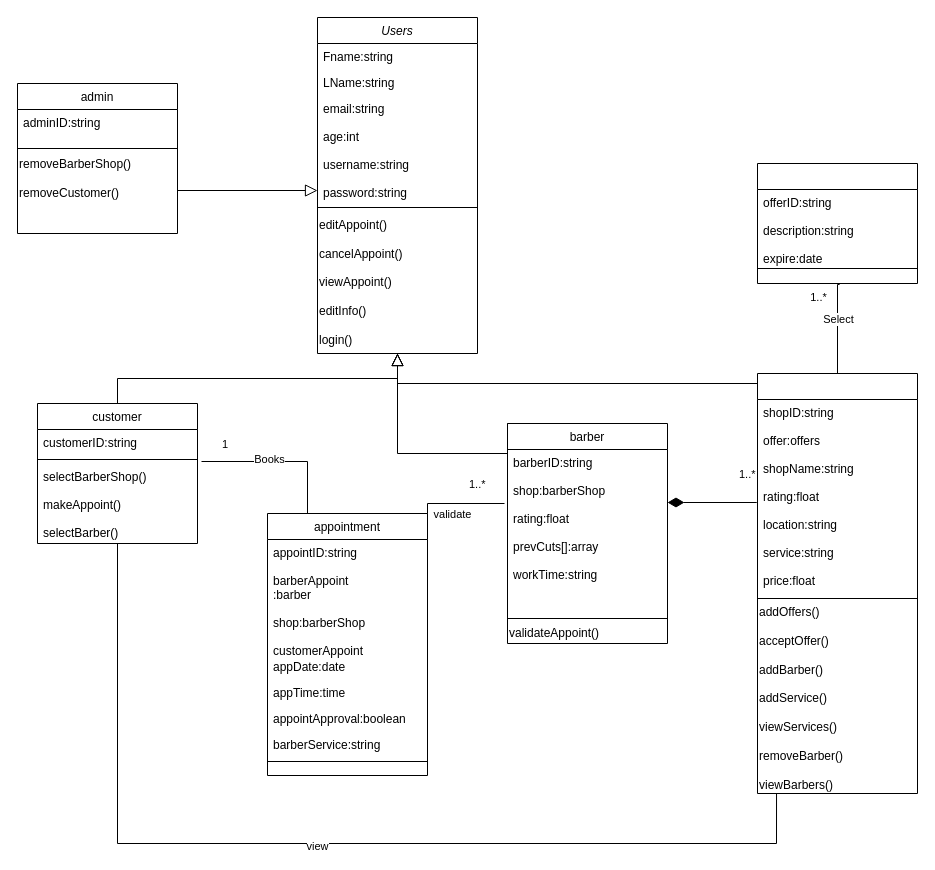
Image size: 935x870. Some labels were removed from this diagram. The shapes that lost their labels are listed below. From the top down, each one's box as (x1, y1, x2, y2) in pixels, then its label:
(756, 162, 918, 284): offers
(756, 372, 918, 794): barberShop
